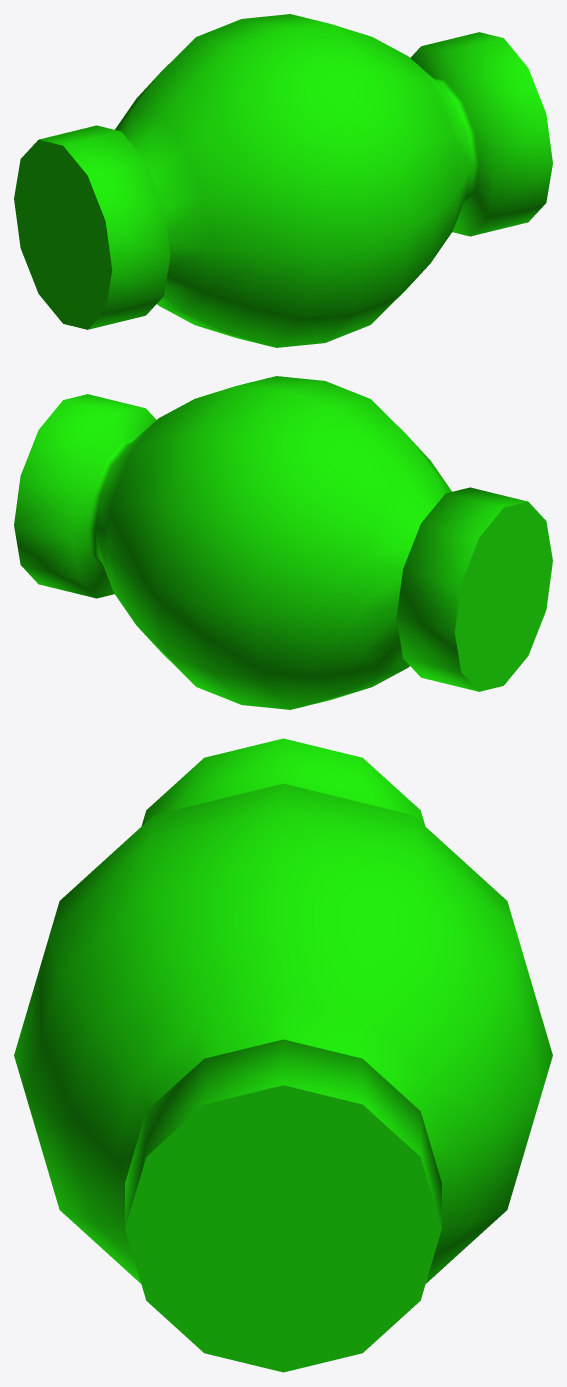
File: _ipe06_low.fbx
3 views of the same model, one above another, from view 1: azimuth 30°, elevation 25°; view 2: azimuth 150°, elevation 25°; view 3: azimuth 270°, elevation 25° (orthographic). The views are drawn at different scales.
Visible parts, largest first — view 1: Pipe06_low; view 2: Pipe06_low; view 3: Pipe06_low.
Boxes of the visible parts, left/top/right/bottom form: Pipe06_low: left=14, top=14, right=552, bottom=347; Pipe06_low: left=14, top=376, right=552, bottom=709; Pipe06_low: left=14, top=738, right=552, bottom=1372.
Size of the model in its own units: 18.57 by 12.23 by 12.2.
